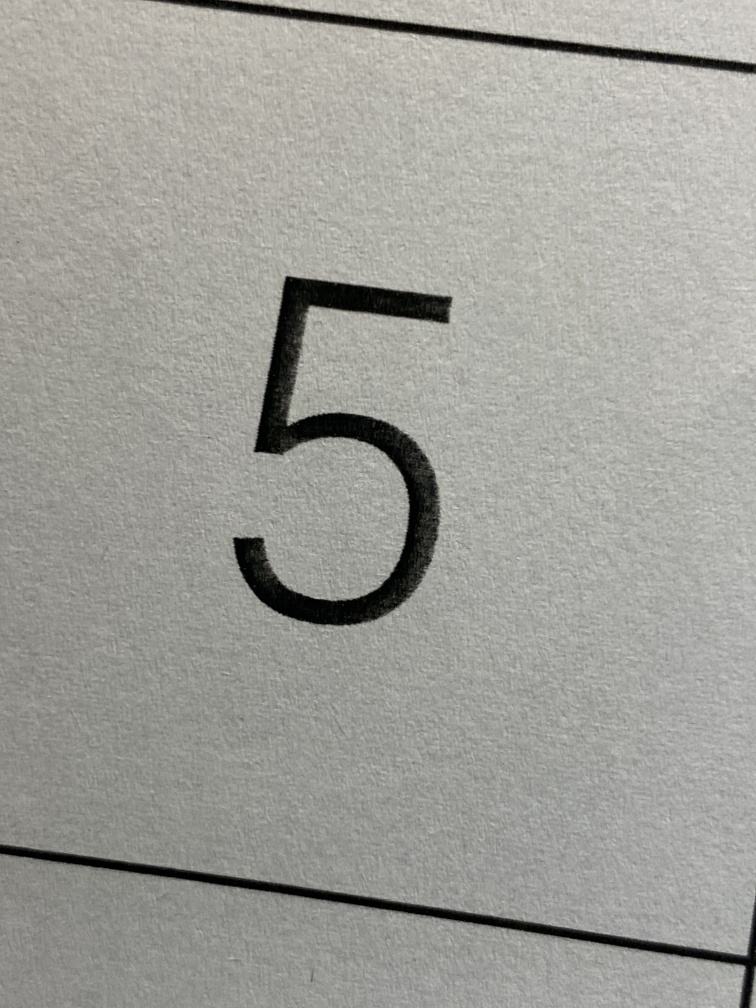five: (185, 201, 511, 679)
